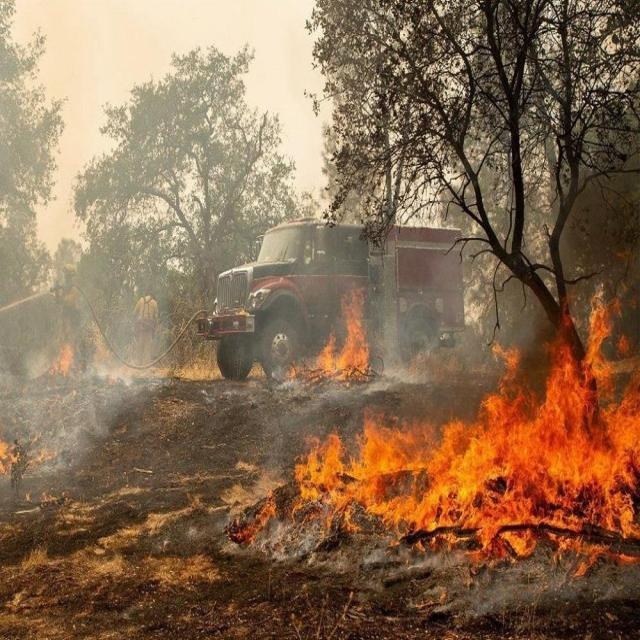Fire: (285, 284, 640, 578), (233, 486, 277, 544), (0, 436, 54, 477), (50, 343, 74, 376)
Smoke: (519, 81, 640, 406), (0, 282, 172, 504), (265, 518, 640, 618), (274, 314, 426, 404)
